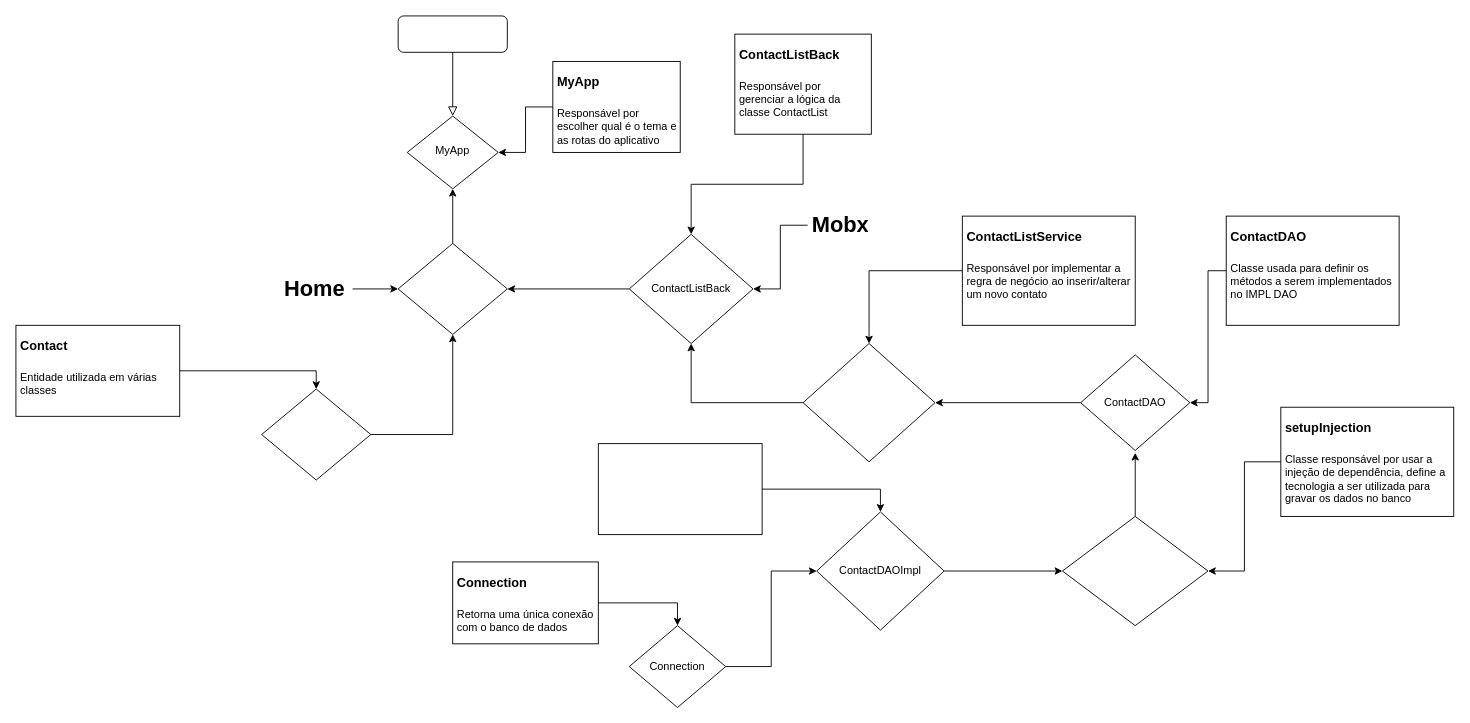
Image size: 1470x723. Some labels were removed from this diagram. Each missing label, with the centre of its shape:
"Contact" goes at point 316,434.
"ContactDAOImpl Operações do banco de dados (DELETE, INSERT... )" goes at point 679,489.
"ContactList" goes at point 452,288.
"ContactListService" goes at point 868,402.
"Main" goes at point 452,33.
"setupInjection" goes at point 1135,571.
